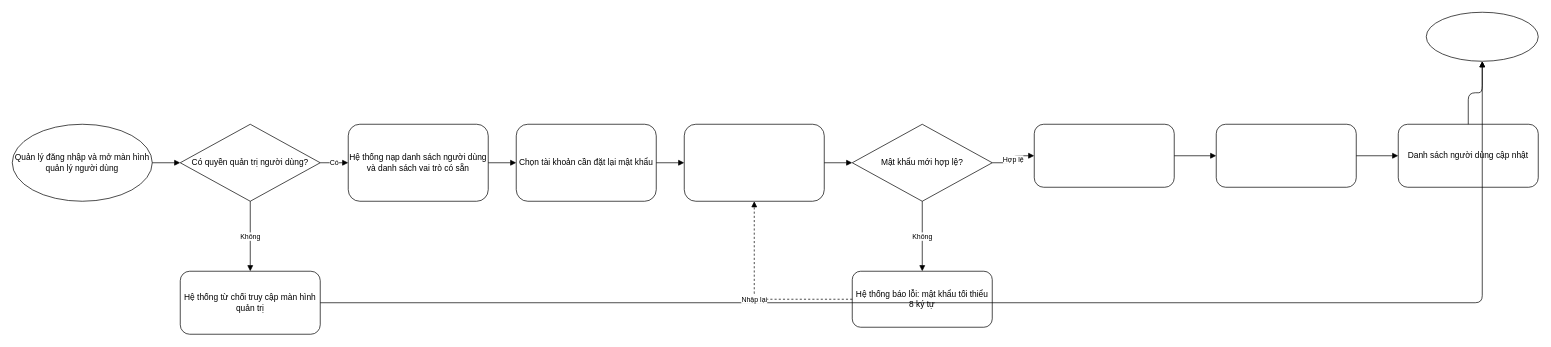
The diagram is 1551 pixels wide and 347 high, and some of its shapes have lost their labels. The centre of each missing label's shape, as x and y in pixels:
Hệ thống băm mật khẩu mới và cập nhật: point (1104, 155)
Hệ thống ghi nhật ký thao tác tài khoản: point (1286, 155)
Kết thúc: point (1482, 36)
Nhập mật khẩu mới (tối thiểu 8 ký tự): point (754, 162)
